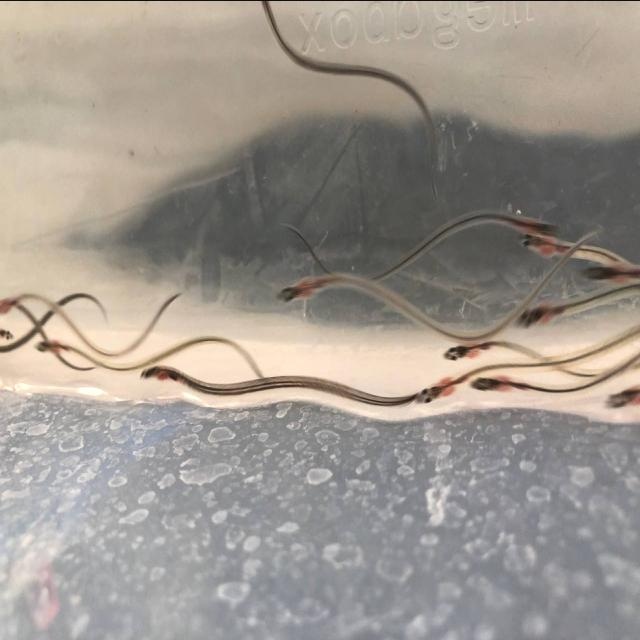glass_eel: (511, 202, 558, 268), (268, 258, 321, 312), (465, 357, 517, 408), (599, 363, 640, 426), (408, 367, 462, 414), (576, 254, 622, 306), (508, 294, 558, 336), (440, 338, 492, 374), (135, 357, 171, 392), (32, 331, 68, 363), (0, 320, 17, 354)
